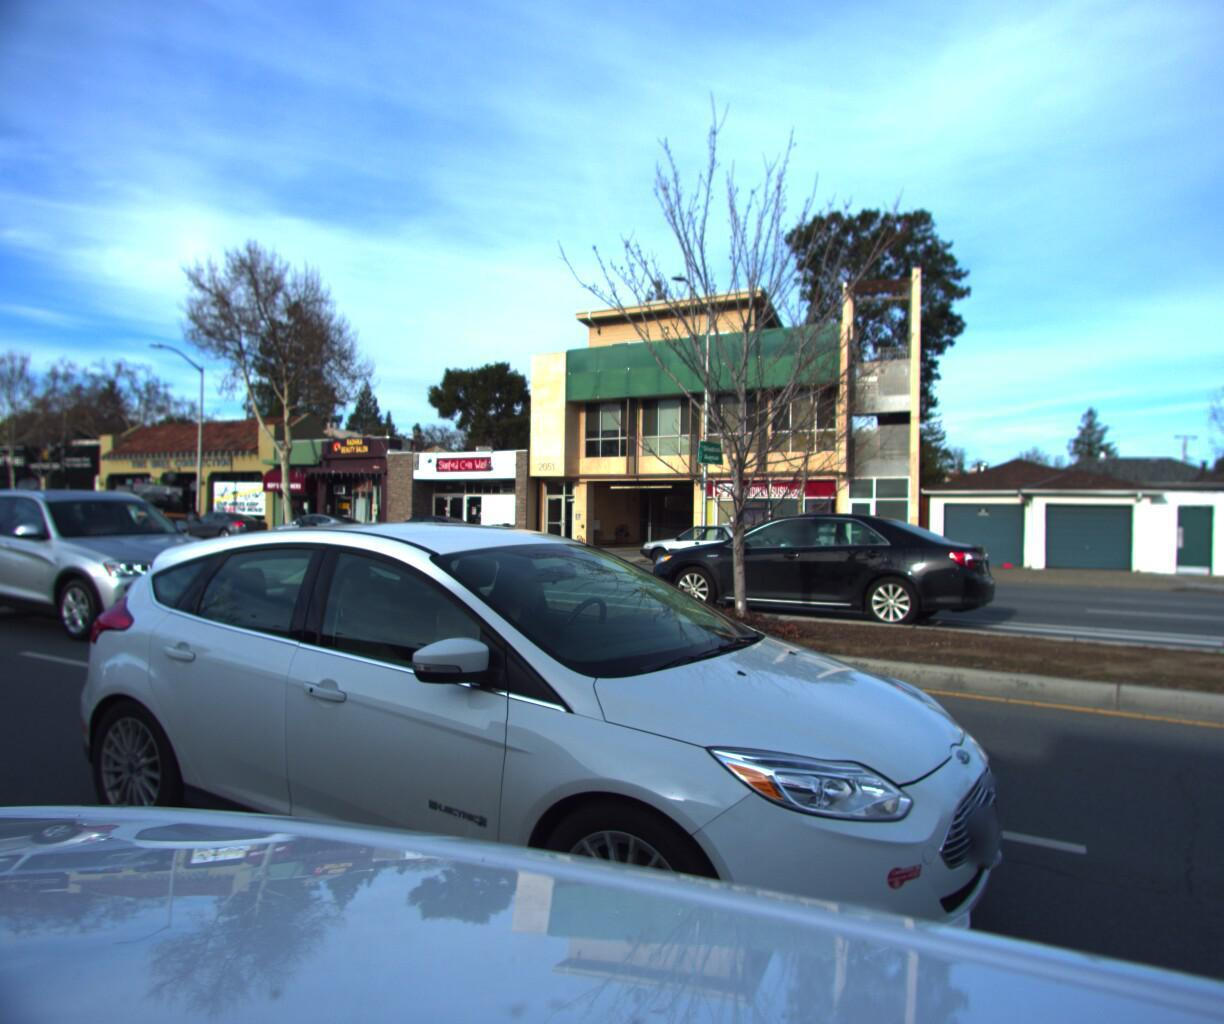car: (14, 523, 991, 1024), (642, 502, 1026, 633), (632, 523, 783, 574), (91, 480, 206, 545), (365, 518, 490, 560), (259, 516, 377, 554), (167, 515, 274, 549)
